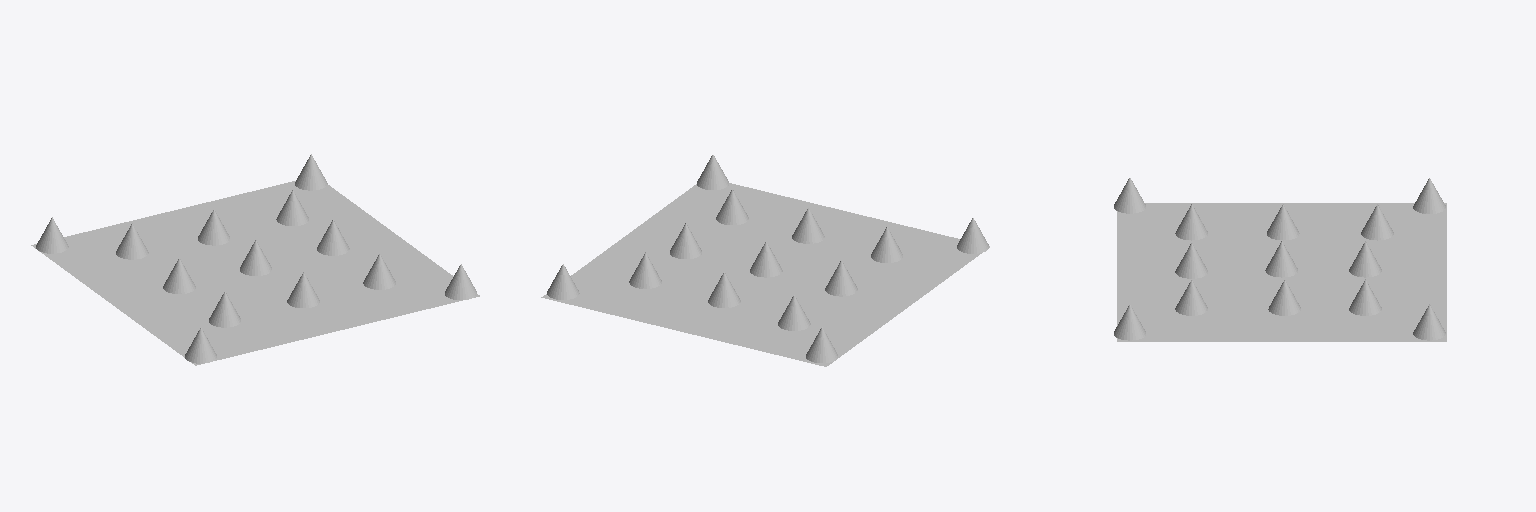
File: trap.obj
The picture shows the model from 3 angles: view 1: azimuth 30°, elevation 25°; view 2: azimuth 150°, elevation 25°; view 3: azimuth 270°, elevation 25°; orthographic projection.
Parts seen in each view (by area): view 1: Plane, Cone.004_Cone.006, Cone.003_Cone.005, Cone.008_Cone.010, Cone.009_Cone.011, Cone.001_Cone.003, Cone.006_Cone.008, Cone.007_Cone.009, Cone.010_Cone.012, Cone.011_Cone.013, Cone.012_Cone.014, Cone (+2 smaller); view 2: Plane, Cone.002_Cone.004, Cone.005_Cone.007, Cone, Cone.001_Cone.003, Cone.008_Cone.010, Cone.004_Cone.006, Cone.006_Cone.008, Cone.007_Cone.009, Cone.010_Cone.012, Cone.012_Cone.014, Cone.009_Cone.011 (+2 smaller); view 3: Plane, Cone.002_Cone.004, Cone.004_Cone.006, Cone.005_Cone.007, Cone.009_Cone.011, Cone.011_Cone.013, Cone.012_Cone.014, Cone, Cone.003_Cone.005, Cone.010_Cone.012, Cone.007_Cone.009, Cone.001_Cone.003 (+2 smaller).
Boxes of the visible parts, <box> form: Plane: <box>31,181,479,365</box>; Cone.004_Cone.006: <box>363,254,395,289</box>; Cone.003_Cone.005: <box>317,220,349,255</box>; Cone.008_Cone.010: <box>116,223,148,259</box>; Cone.009_Cone.011: <box>36,217,68,253</box>; Cone.001_Cone.003: <box>198,210,229,245</box>; Cone.006_Cone.008: <box>209,292,240,327</box>; Cone.007_Cone.009: <box>163,258,195,293</box>; Cone.010_Cone.012: <box>295,154,327,190</box>; Cone.011_Cone.013: <box>445,264,476,299</box>; Cone.012_Cone.014: <box>185,328,216,363</box>; Cone: <box>240,240,271,275</box>; Plane: <box>541,183,989,366</box>; Cone.002_Cone.004: <box>629,252,661,288</box>; Cone.005_Cone.007: <box>792,207,824,243</box>; Cone: <box>750,241,782,277</box>; Cone.001_Cone.003: <box>708,272,740,307</box>; Cone.008_Cone.010: <box>778,295,810,330</box>; Cone.004_Cone.006: <box>716,189,748,224</box>; Cone.006_Cone.008: <box>871,227,902,262</box>; Cone.007_Cone.009: <box>825,260,857,296</box>; Cone.010_Cone.012: <box>547,264,579,299</box>; Cone.012_Cone.014: <box>957,218,988,253</box>; Cone.009_Cone.011: <box>806,327,837,362</box>; Plane: <box>1117,203,1446,341</box>; Cone.002_Cone.004: <box>1349,279,1381,315</box>; Cone.004_Cone.006: <box>1175,280,1207,315</box>; Cone.005_Cone.007: <box>1175,243,1207,278</box>; Cone.009_Cone.011: <box>1413,178,1445,213</box>; Cone.011_Cone.013: <box>1114,305,1145,340</box>; Cone.012_Cone.014: <box>1114,178,1145,213</box>; Cone: <box>1265,241,1297,277</box>; Cone.003_Cone.005: <box>1268,280,1300,315</box>; Cone.010_Cone.012: <box>1413,304,1445,340</box>; Cone.007_Cone.009: <box>1267,204,1299,240</box>; Cone.001_Cone.003: <box>1349,241,1381,277</box>.
Size of the model in its own units: 2.02 by 0.21 by 2.02.